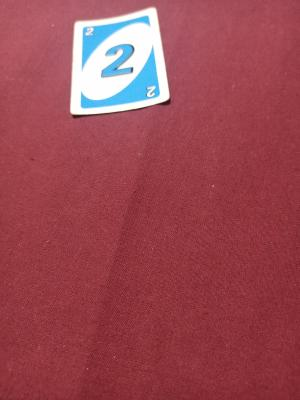num_2: (97, 42, 140, 83), (142, 81, 160, 102)
